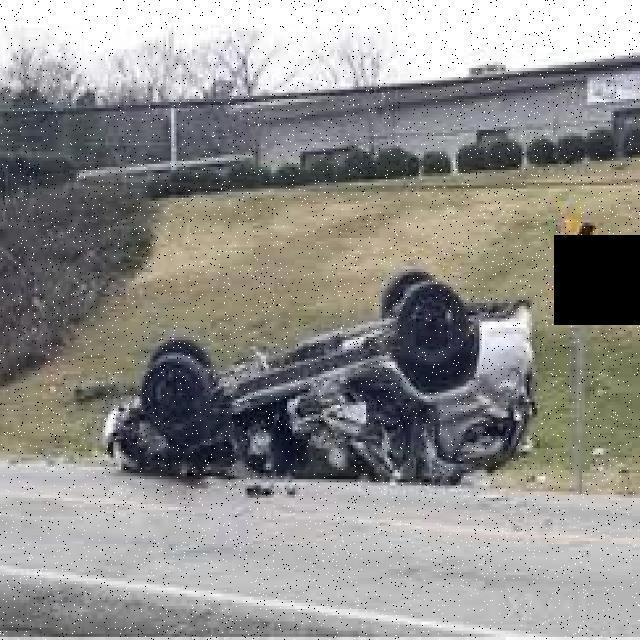accident: (100, 262, 537, 482)
